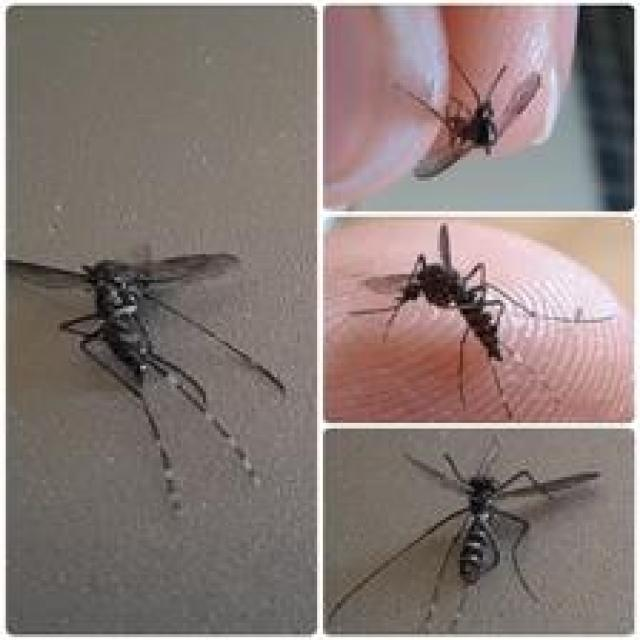Aedes albopictus: (7, 250, 287, 513)
